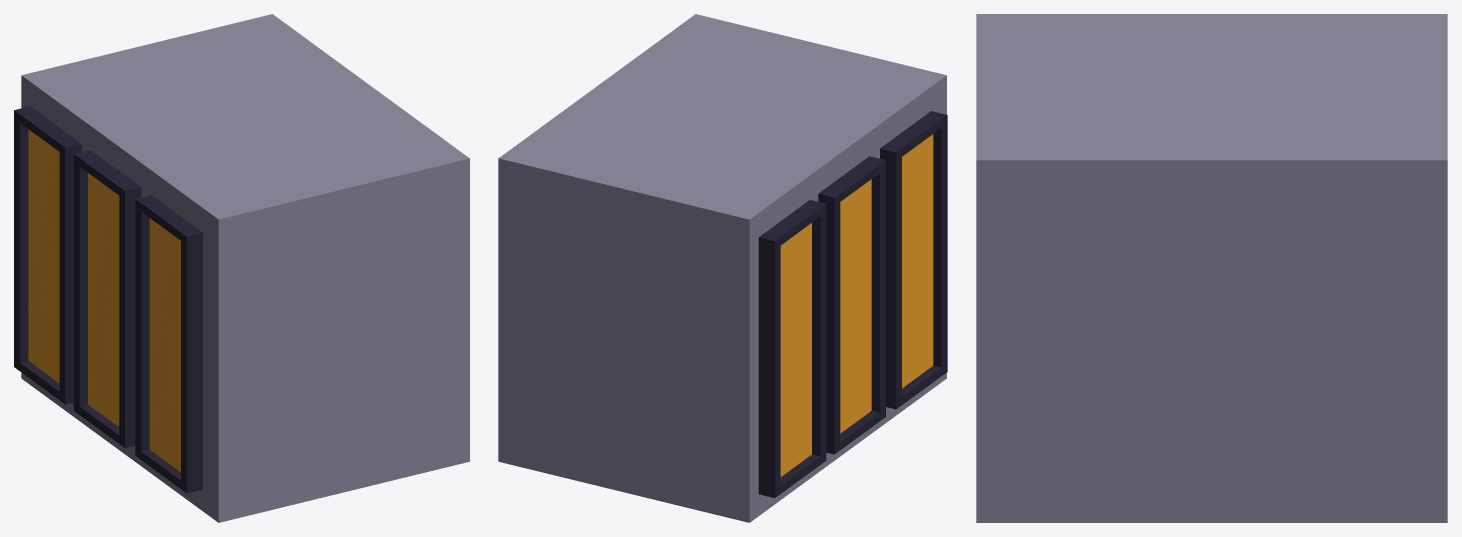
File: SM_balcony_small.fbx
The picture shows the model from 3 angles, left to right: view 1: azimuth 30°, elevation 25°; view 2: azimuth 150°, elevation 25°; view 3: azimuth 270°, elevation 25°; orthographic projection. The views are drawn at different scales.
Parts seen in each view (by area): view 1: small balcony; view 2: small balcony; view 3: small balcony.
Part boxes in pixels (x1,y1,x2,y2): small balcony: [14, 14, 469, 522]; small balcony: [498, 14, 947, 522]; small balcony: [976, 14, 1447, 522].
Size of the model in its own units: 456 by 494 by 583.
